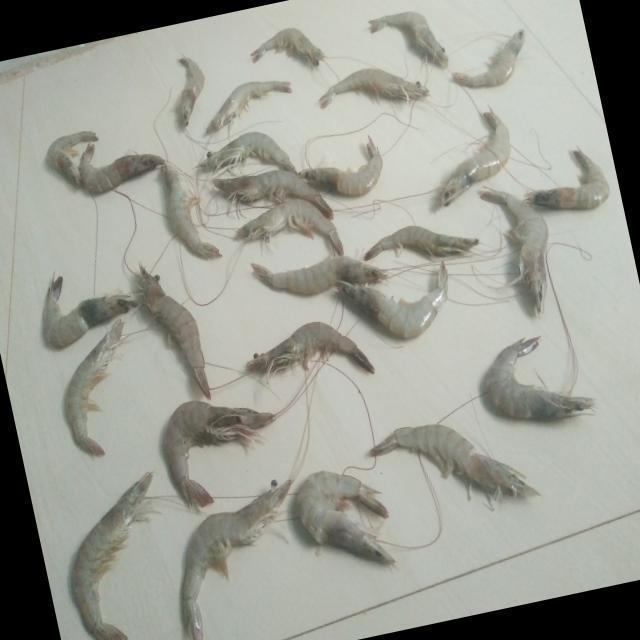shrimp: (181, 479, 291, 640), (70, 472, 151, 640), (370, 424, 539, 498), (164, 400, 273, 507), (133, 264, 210, 398), (485, 336, 594, 419), (297, 471, 394, 564), (480, 188, 549, 312), (336, 261, 448, 337), (64, 318, 122, 456), (440, 107, 511, 204), (245, 321, 374, 373), (41, 275, 135, 346), (235, 197, 343, 254), (211, 168, 333, 218), (161, 162, 220, 257), (251, 255, 386, 294), (526, 148, 610, 208), (299, 134, 382, 194), (318, 66, 428, 107), (206, 79, 291, 132), (369, 9, 448, 66), (77, 142, 163, 192), (452, 28, 526, 86), (364, 224, 479, 260), (198, 130, 296, 172), (250, 26, 324, 65), (45, 130, 96, 183), (173, 54, 203, 126)
